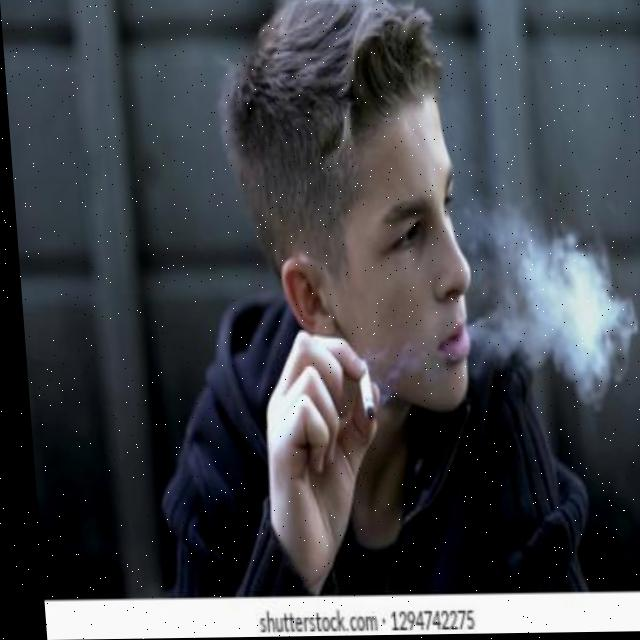cigarette: (350, 358, 370, 422)
